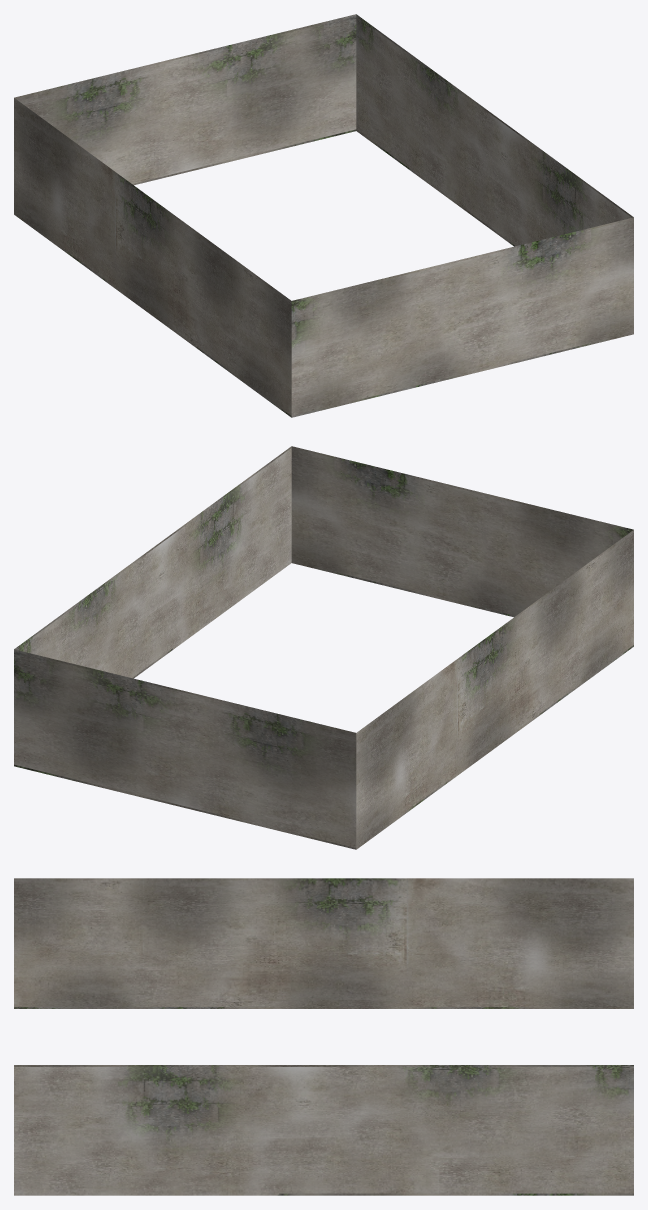
Rendered from medRooms.glb.
3 views of the same model, one above another, from view 1: azimuth 30°, elevation 25°; view 2: azimuth 150°, elevation 25°; view 3: azimuth 270°, elevation 25° (orthographic). The views are drawn at different scales.
Visible parts, largest first — view 1: house1; view 2: house1; view 3: house1.
Part boxes in pixels (x1,y1,x2,y2): house1: (14, 14, 633, 417); house1: (14, 446, 633, 849); house1: (14, 878, 633, 1195).
Bounding box in the file's own units: 8.49 × 2.77 × 11.92.
1 material, 1 textured.
